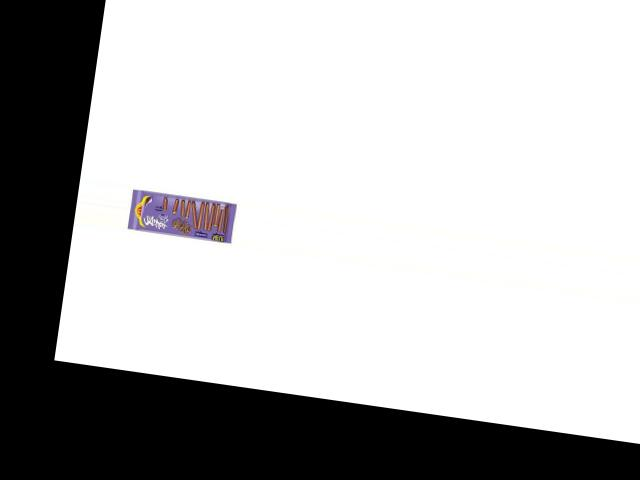chocolate: (126, 183, 239, 245)
